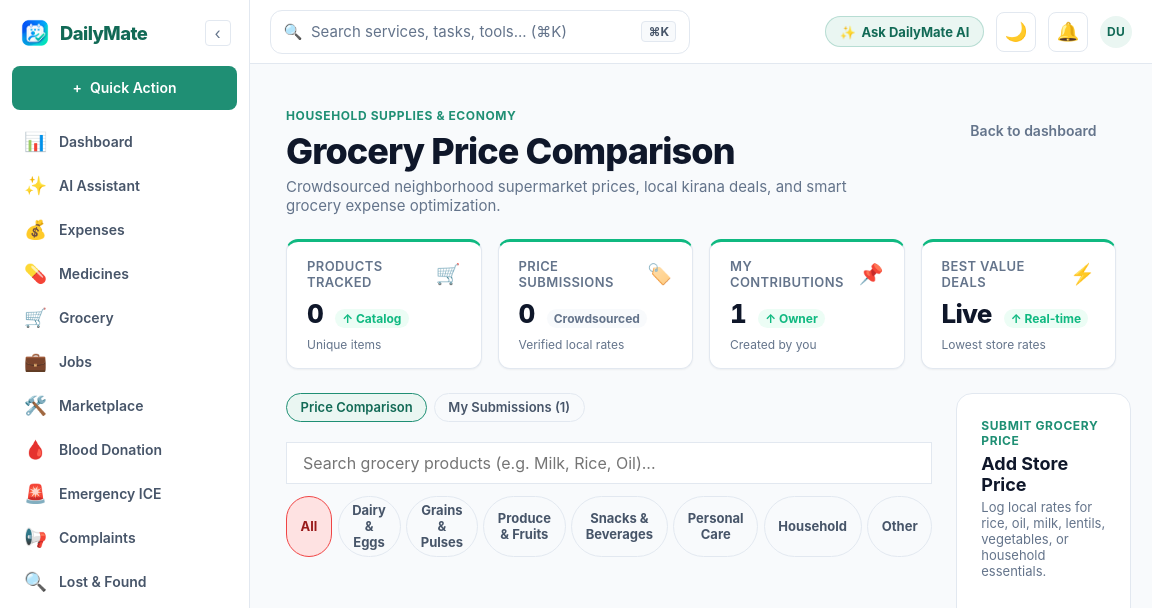
Test: GroceryPage › switches to My Submissions tab and shows owner Edit/Delete controls
Expected: the heading "Grocery Price Comparison" is shown, [286, 129, 735, 173]
What coordinates should you click on to do the following:
click the button "My Submissions (1)"
I would click on:
 (509, 407)
Its box is [434, 393, 585, 422].
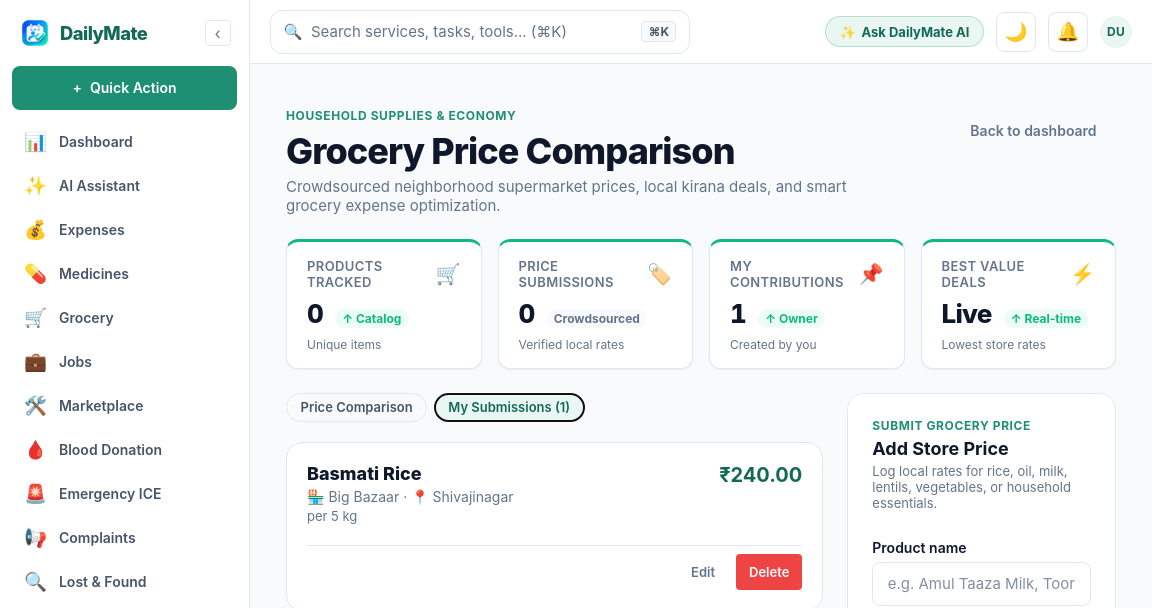
Now the heading "Basmati Rice" is shown, box [307, 463, 422, 484]
Now the text "per 5 kg" is shown, box [307, 508, 357, 524]
Now the button "Edit" is shown, box [678, 554, 728, 590]
